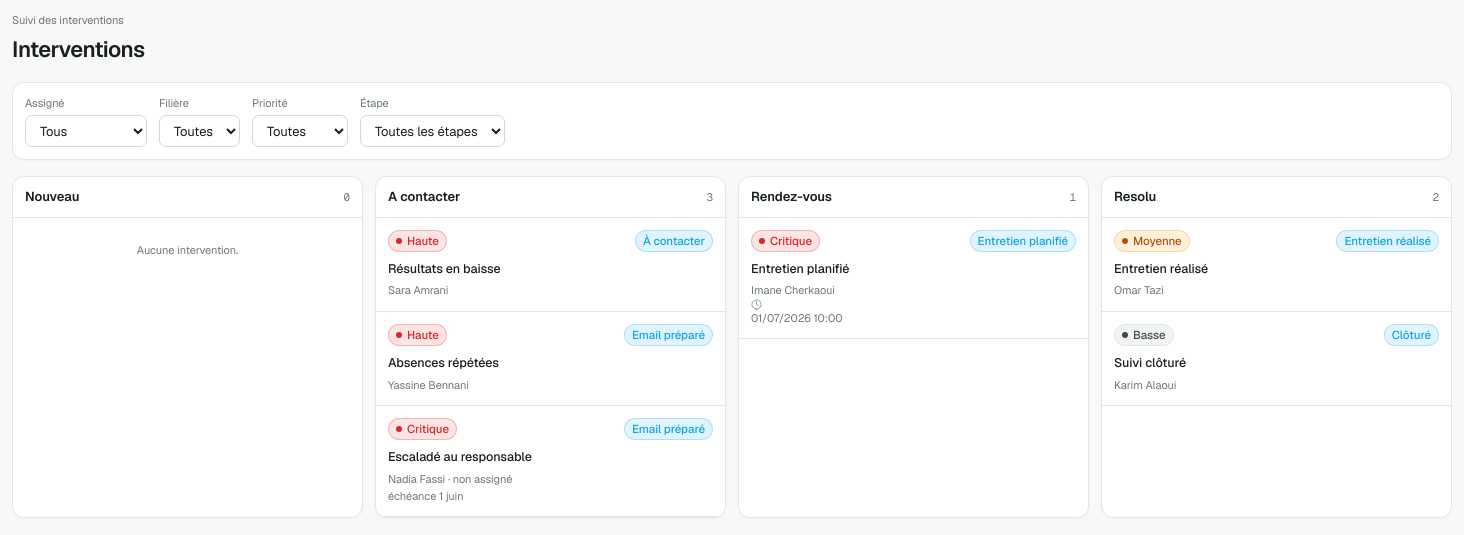
it: Cases intervention queue › filters primary cards by priority
The image size is (1464, 535).
Expected: the heading "Interventions" is shown, [12, 34, 144, 62]
Select "Critique" in the dropdown labelled "Priorité" at (300, 131), box [252, 115, 348, 147]
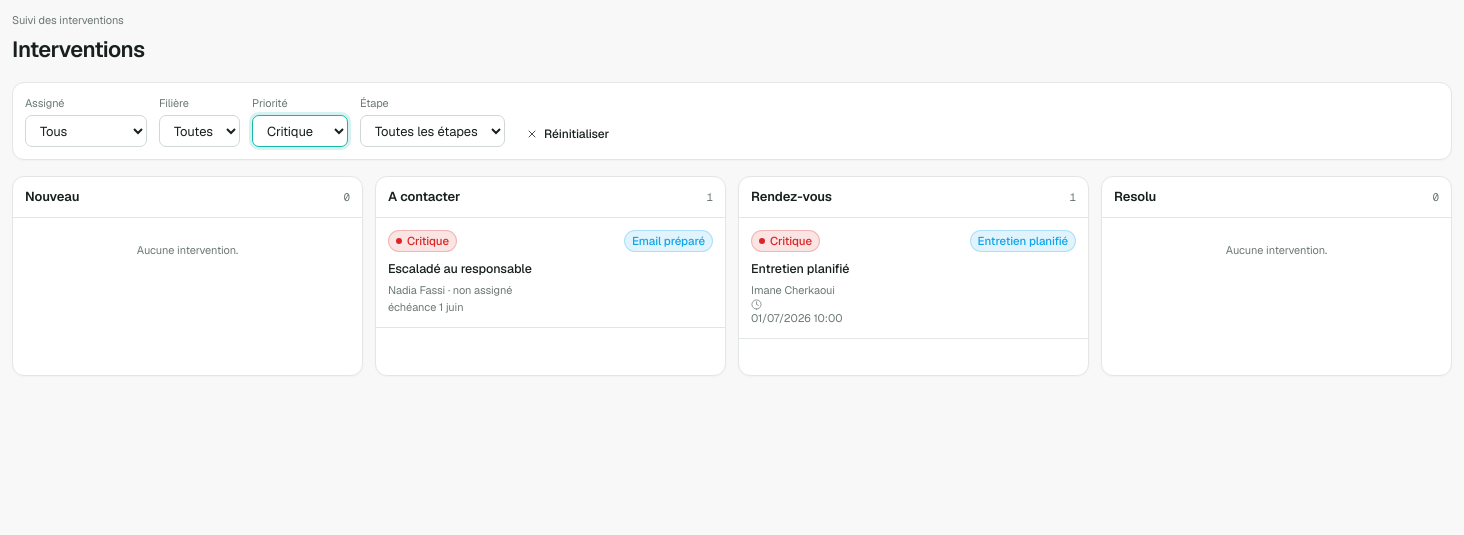
Expected: the button "Imane Cherkaoui" is shown, [739, 218, 1088, 339]
Expected: the button "Sara Amrani" is gone
